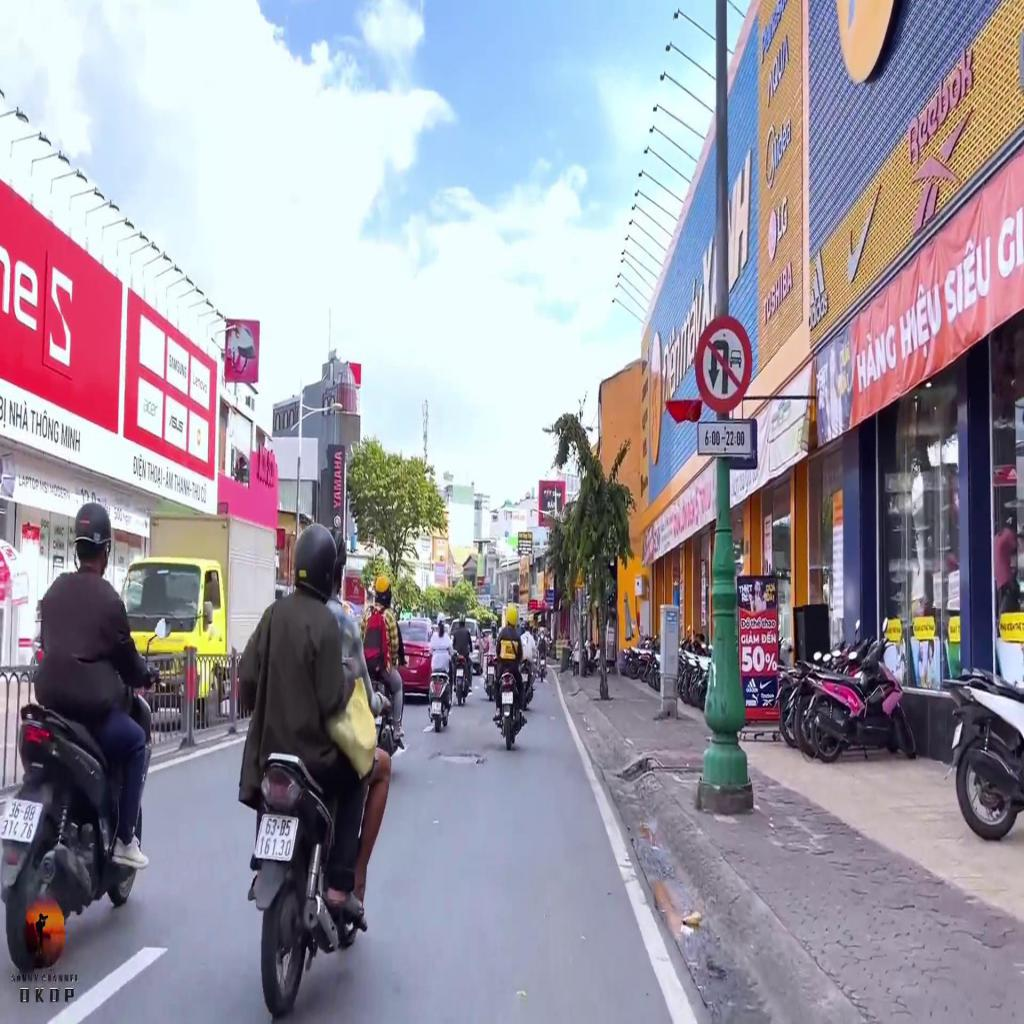cam_o_to_quay_dau_xe: (695, 314, 752, 415)
khac: (698, 422, 750, 456)
